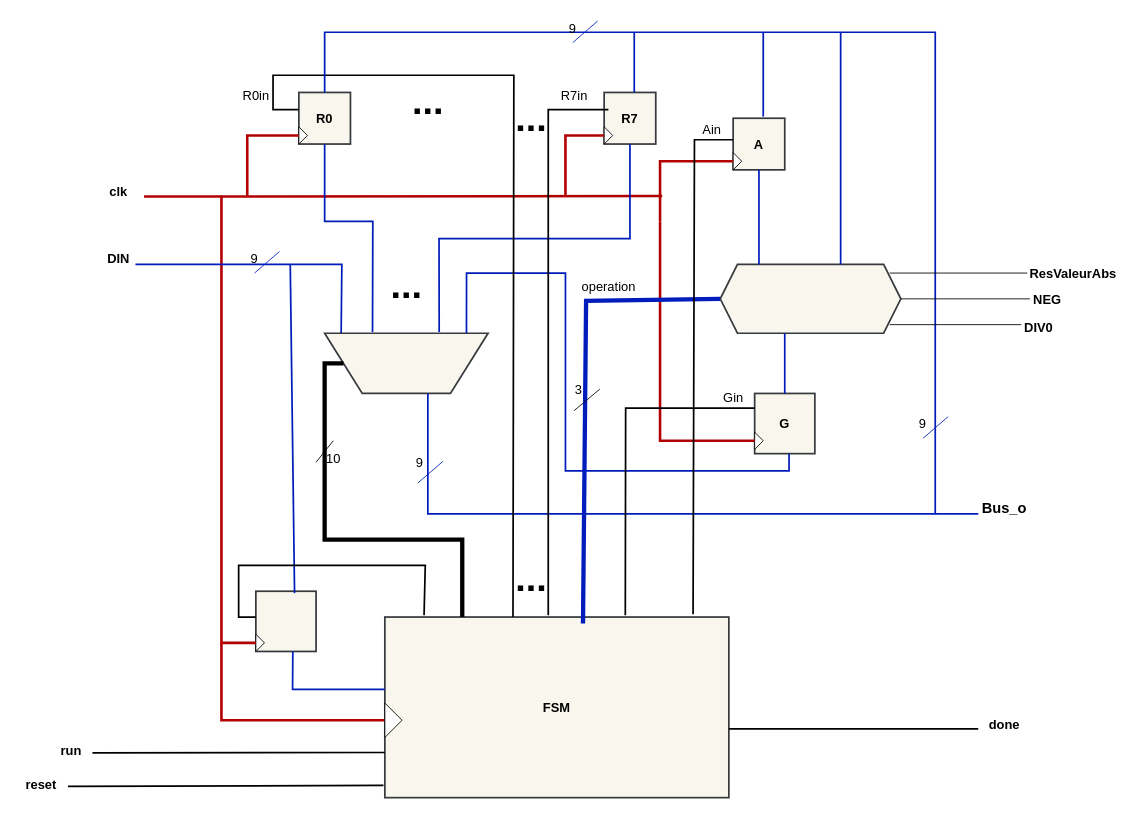
The diagram is 1139 pixels wide and 813 high, and some of its shapes have lost their labels. Each missing label, with the box of its shape:
ALU: (719, 263, 901, 334)
IR: (255, 590, 316, 652)
MUX10: (323, 332, 488, 394)
